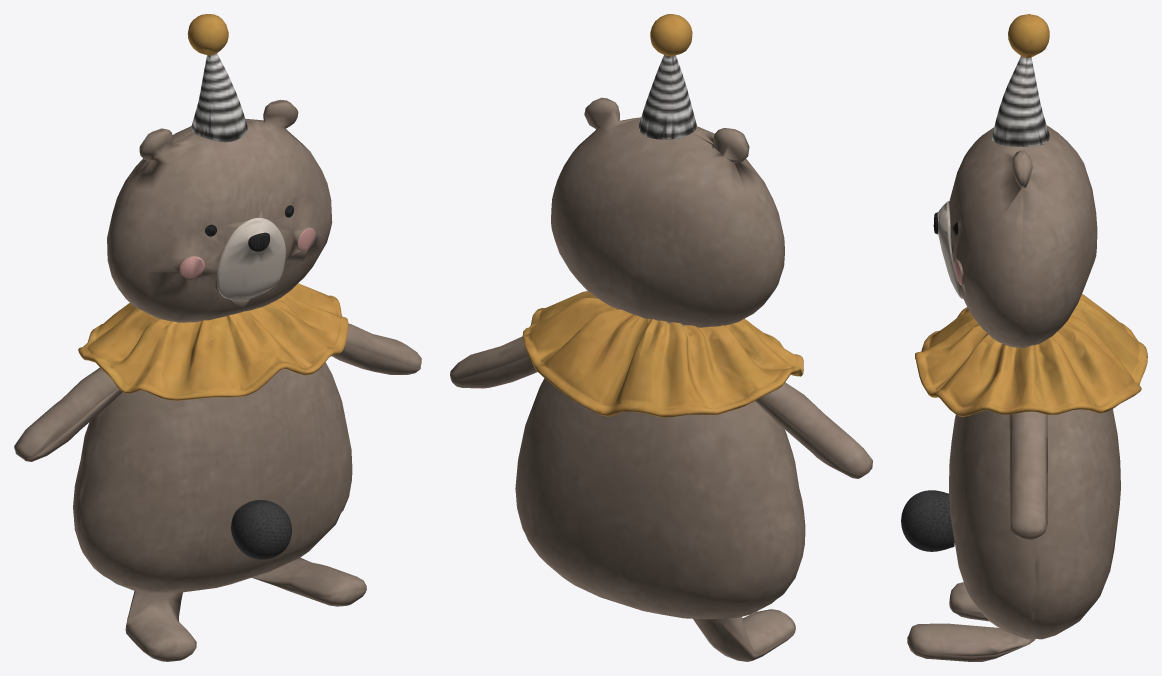
The model's file is 장식품010.glb.
The picture shows the model from 3 angles, left to right: view 1: azimuth 30°, elevation 25°; view 2: azimuth 150°, elevation 25°; view 3: azimuth 270°, elevation 25°; orthographic projection. The views are drawn at different scales.
Parts seen in each view (by area): view 1: BP_장식품010; view 2: BP_장식품010; view 3: BP_장식품010.
Boxes of the visible parts, <box> form: BP_장식품010: <box>14,14,421,661</box>; BP_장식품010: <box>450,14,872,661</box>; BP_장식품010: <box>901,14,1147,661</box>.
Bounding box in the file's own units: 0.3142 × 0.4561 × 0.1607.
Materials: 7 (7 with a texture image).
